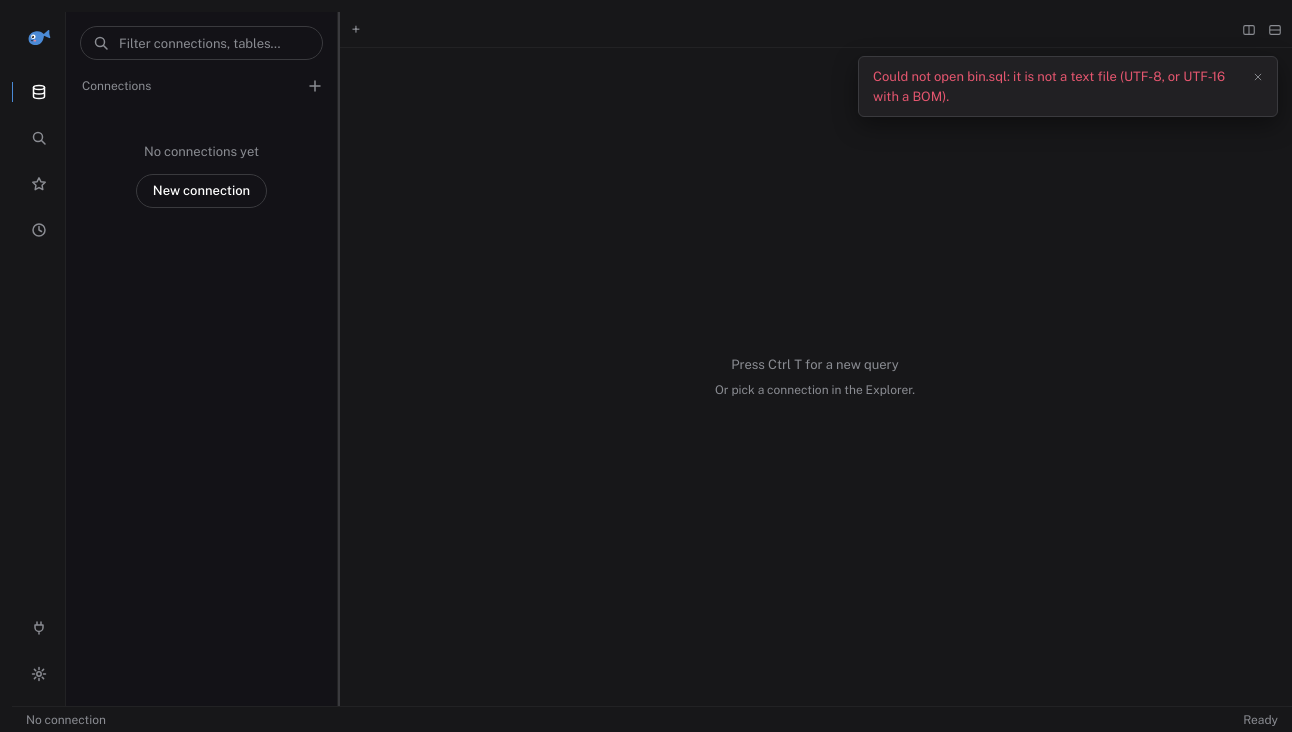
Scenario: Ctrl+O shows the open dialog; a file that cannot be read is reported until dismissed
Expected: the message with class "file-error" shows "Could not open bin.sql: it is not a text file", [873,69,1225,104]
Click the button named "Dismiss".
click(1257, 77)  # box [1247,67,1267,87]
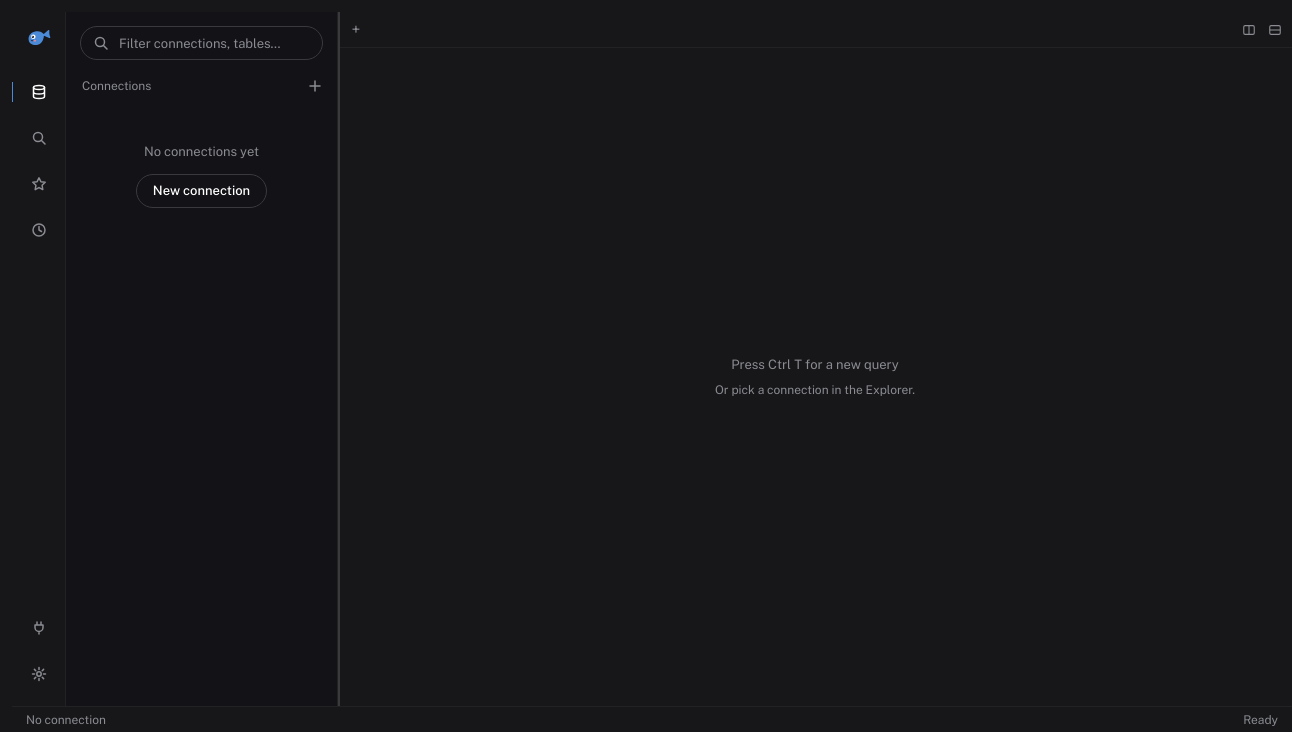
Result: the message with class "file-error" is gone
